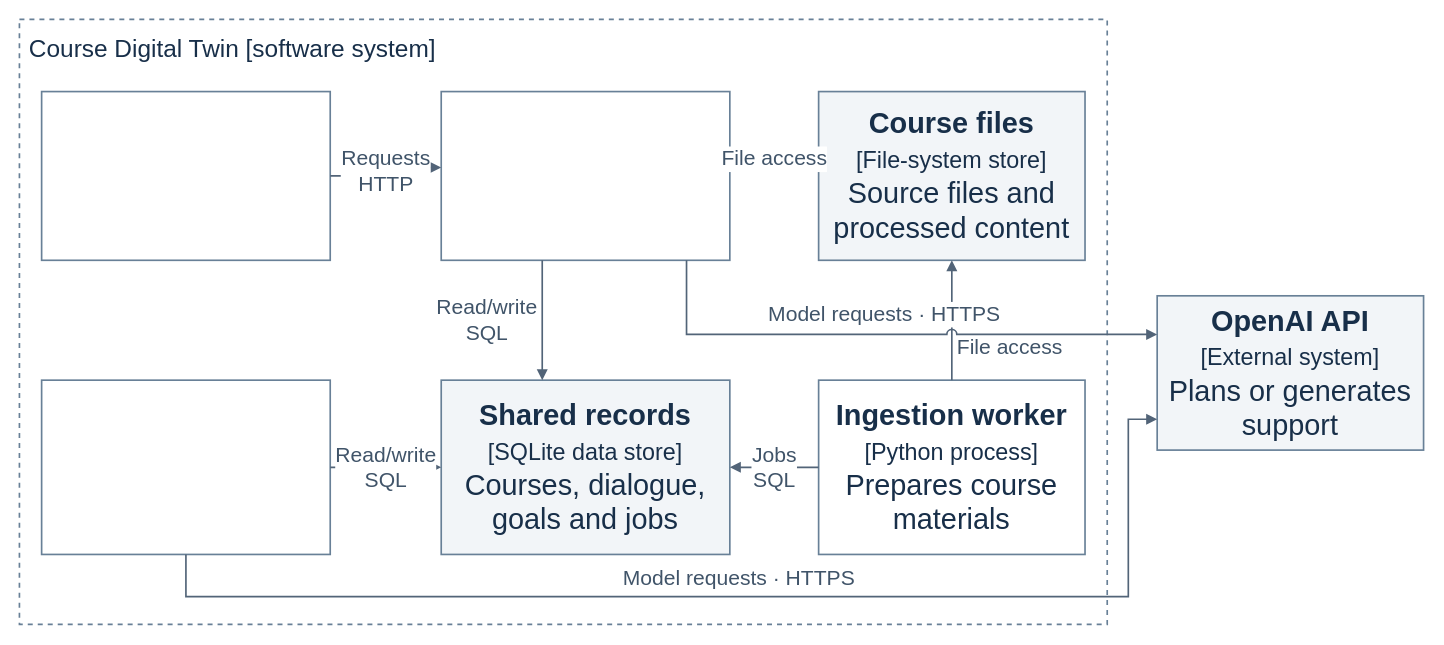
This 1444x645 diagram has some shape labels left out. The box of each missing label's shape, as (x1, y1, x2, y2) in pixels:
API service [Python / FastAPI] Course setup, dialogue and review: (440, 90, 730, 261)
Support worker [Python process] Checks activity; runs support jobs: (40, 379, 331, 555)
Web application [React / browser] Professor / student screens: (40, 90, 331, 261)
